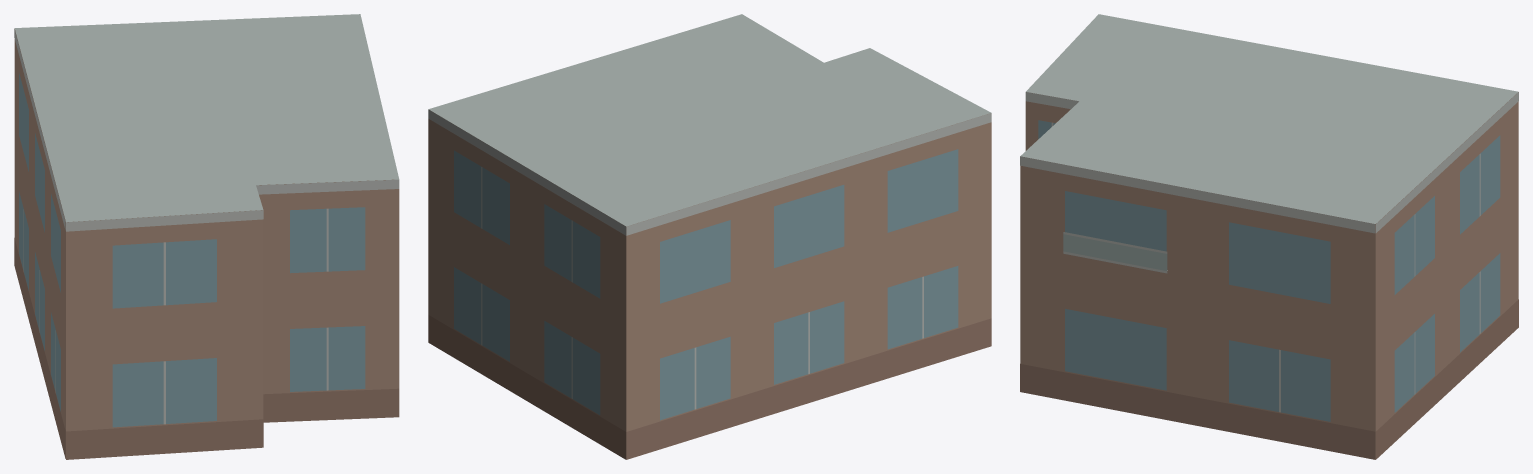
Rendered from survey-upis-32798723.glb.
The picture shows the model from 3 angles, left to right: view 1: azimuth 30°, elevation 25°; view 2: azimuth 150°, elevation 25°; view 3: azimuth 270°, elevation 25°; orthographic projection.
Parts seen in each view (by area): view 1: survey-upis-32798723.tmp; view 2: survey-upis-32798723.tmp; view 3: survey-upis-32798723.tmp.
Boxes of the visible parts, x1=… form: survey-upis-32798723.tmp: x1=14, y1=14, x2=399, y2=459; survey-upis-32798723.tmp: x1=428, y1=14, x2=991, y2=459; survey-upis-32798723.tmp: x1=1020, y1=14, x2=1518, y2=459.
Size of the model in its own units: 11.67 by 6.1 by 11.7.
